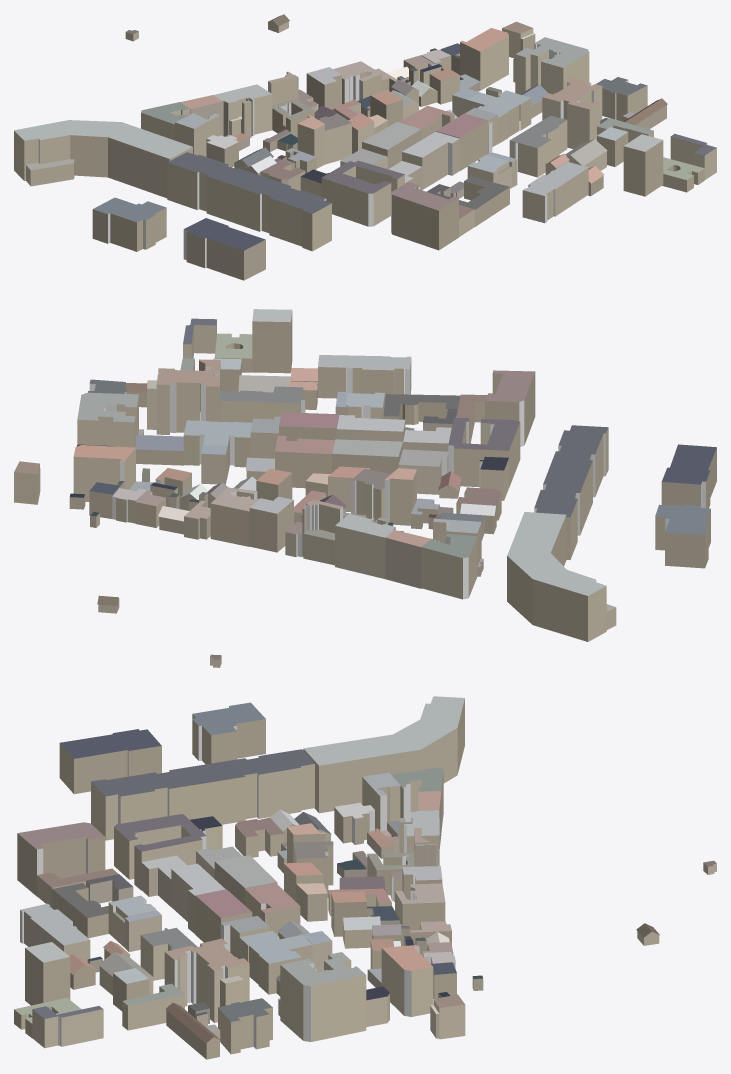
The picture shows the model from 3 angles, top to bottom: view 1: azimuth 30°, elevation 25°; view 2: azimuth 150°, elevation 25°; view 3: azimuth 270°, elevation 25°; orthographic projection. The views are drawn at different scales.
Visible parts, largest first — view 1: tuile; view 2: tuile; view 3: tuile.
Part boxes in pixels (x1=…): tuile: x1=14, y1=14, x2=716, y2=280; tuile: x1=14, y1=309, x2=716, y2=667; tuile: x1=14, y1=696, x2=716, y2=1059.
Bounding box in the file's own units: 276 × 23.07 × 255.
